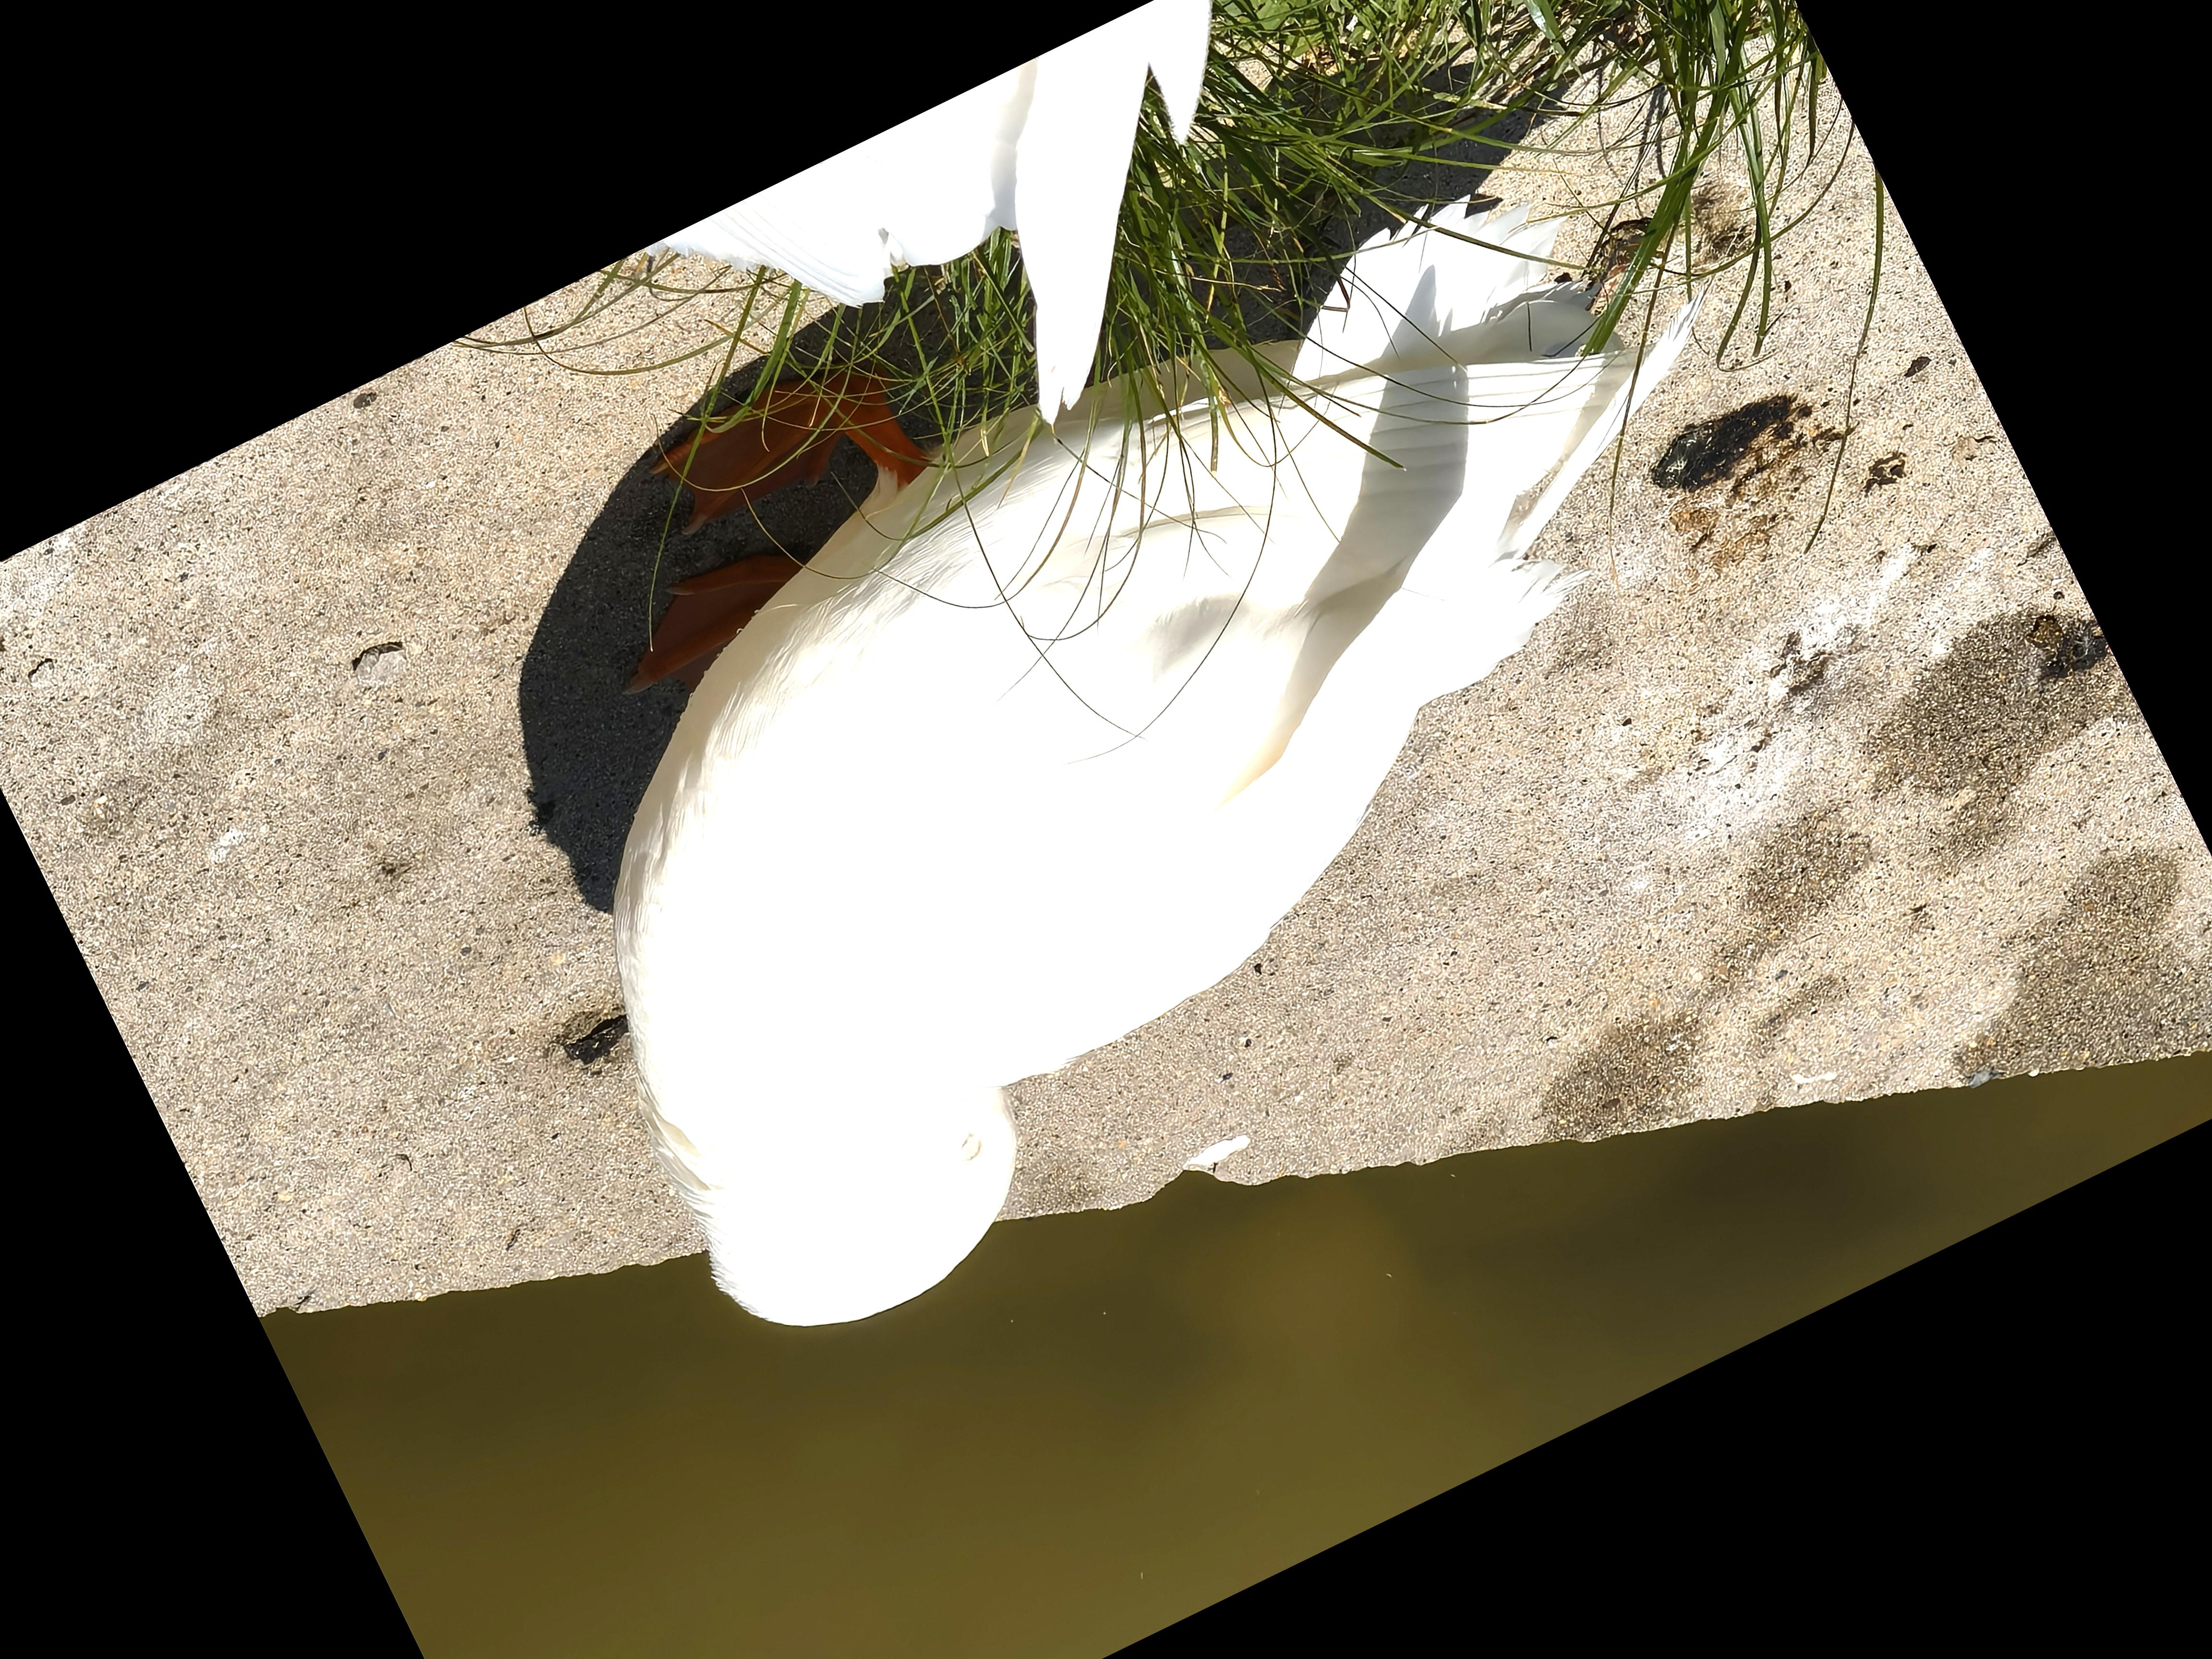duck: (376, 56, 1996, 1429)
